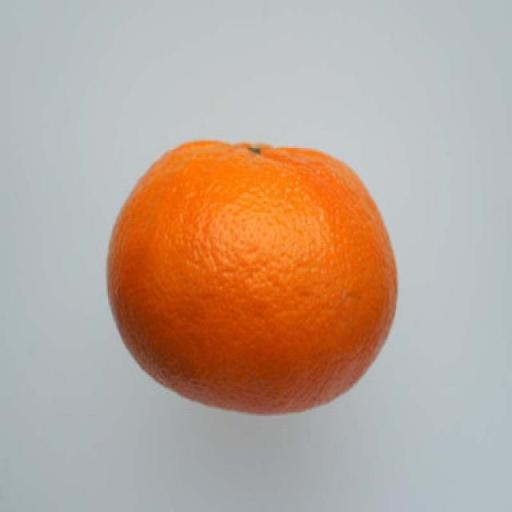fruit: (108, 142, 396, 413)
